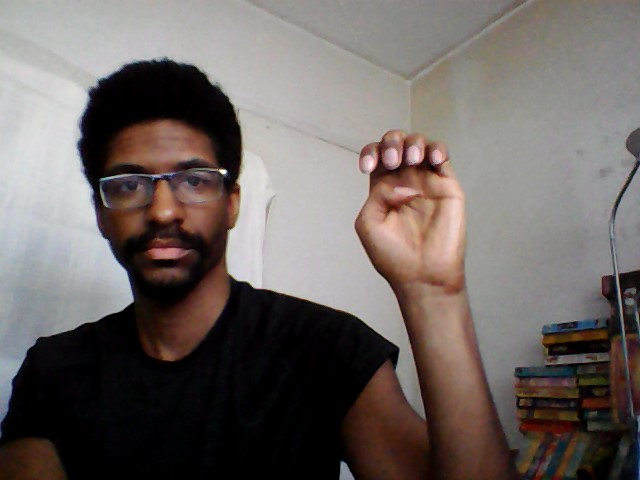e: (352, 124, 475, 293)
